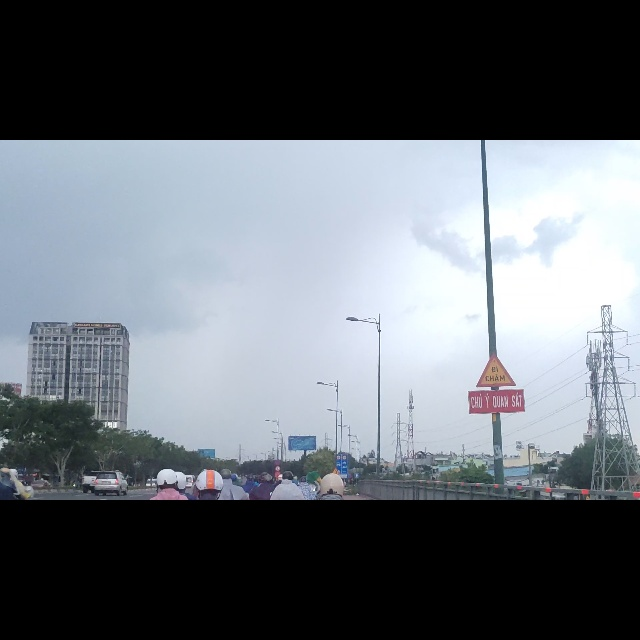bien_chi_dan: (475, 377, 517, 442)
